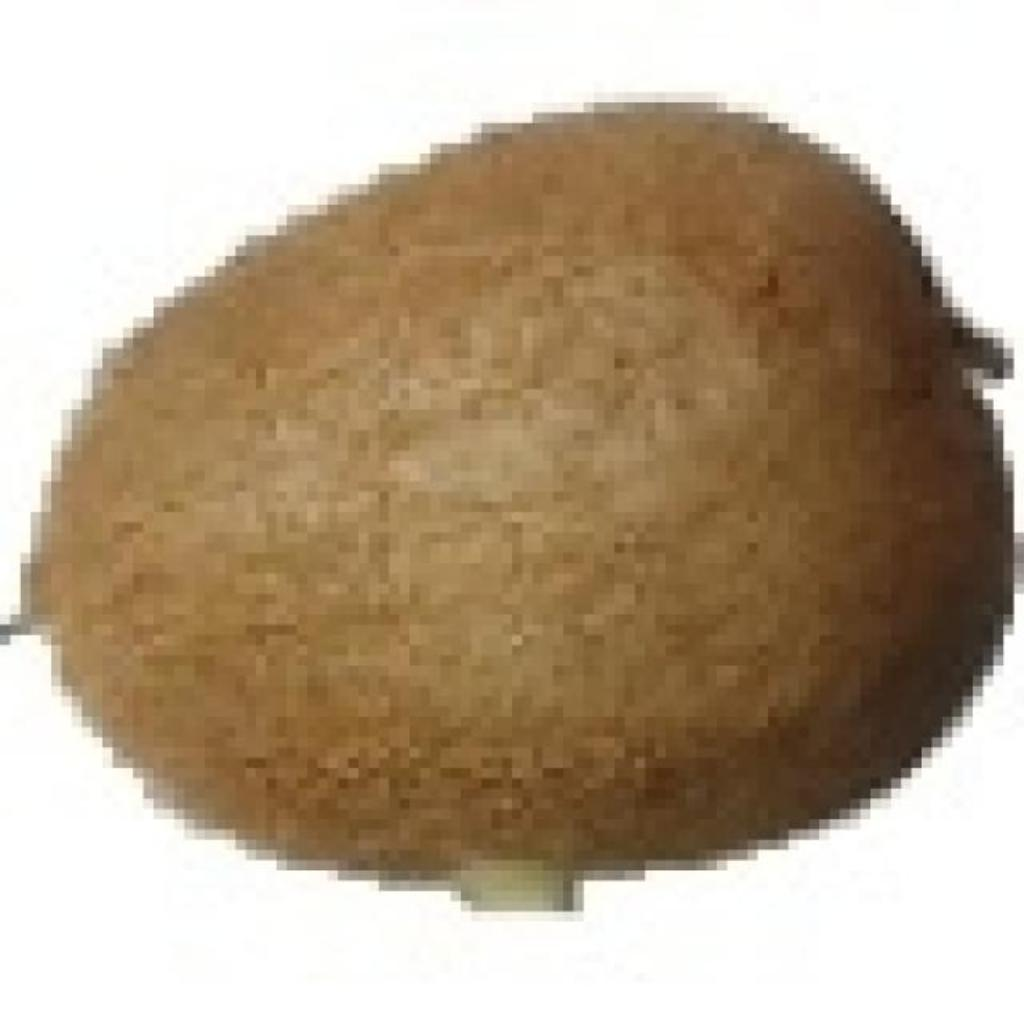kiwi: (20, 92, 993, 881)
